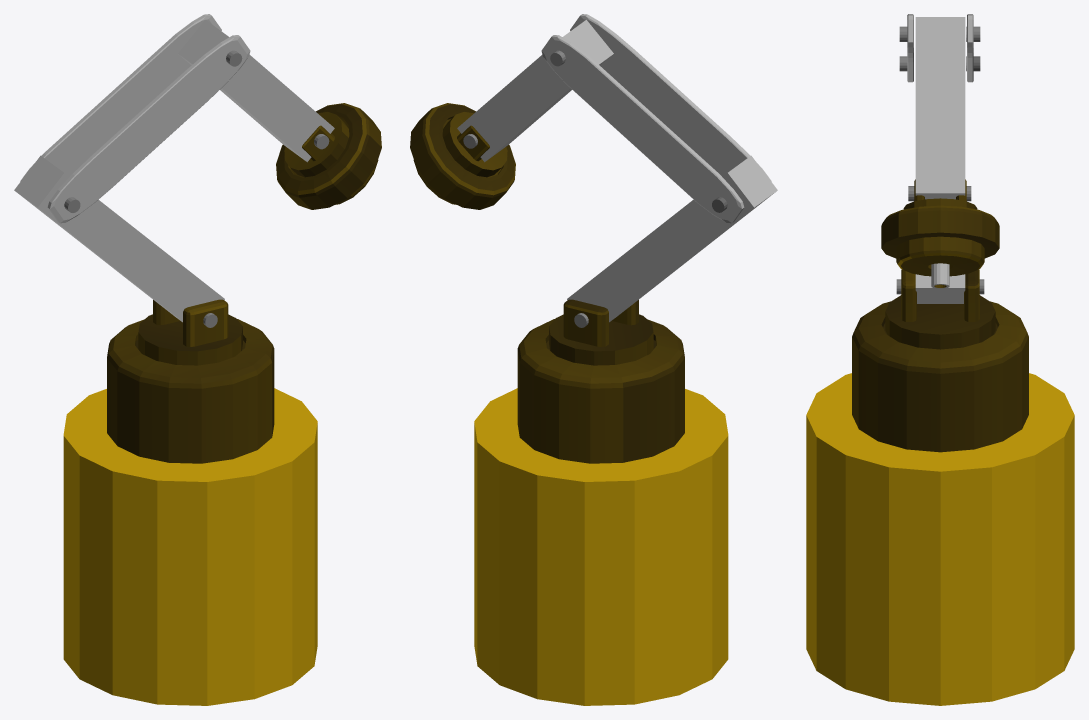
File: SM_Prop_MetalArm_02.fbx
3 views of the same model, side by side, from view 1: azimuth 30°, elevation 25°; view 2: azimuth 150°, elevation 25°; view 3: azimuth 270°, elevation 25° (orthographic). The views are drawn at different scales.
Parts seen in each view (by area): view 1: SM_Prop_MetalArm_02; view 2: SM_Prop_MetalArm_02; view 3: SM_Prop_MetalArm_02.
Boxes of the visible parts, x1,y1,x2,y2 form: SM_Prop_MetalArm_02: (14,14,381,705); SM_Prop_MetalArm_02: (410,14,777,705); SM_Prop_MetalArm_02: (806,14,1074,705).
Bounding box in the file's own units: 1.37 × 2.33 × 0.8742.
1 material, 1 textured.
